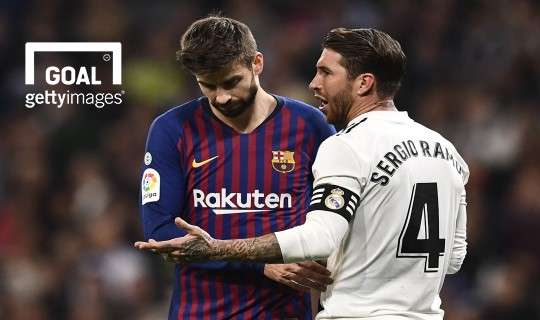barcelona: (136, 21, 328, 319)
realmadrid: (286, 25, 469, 320)
